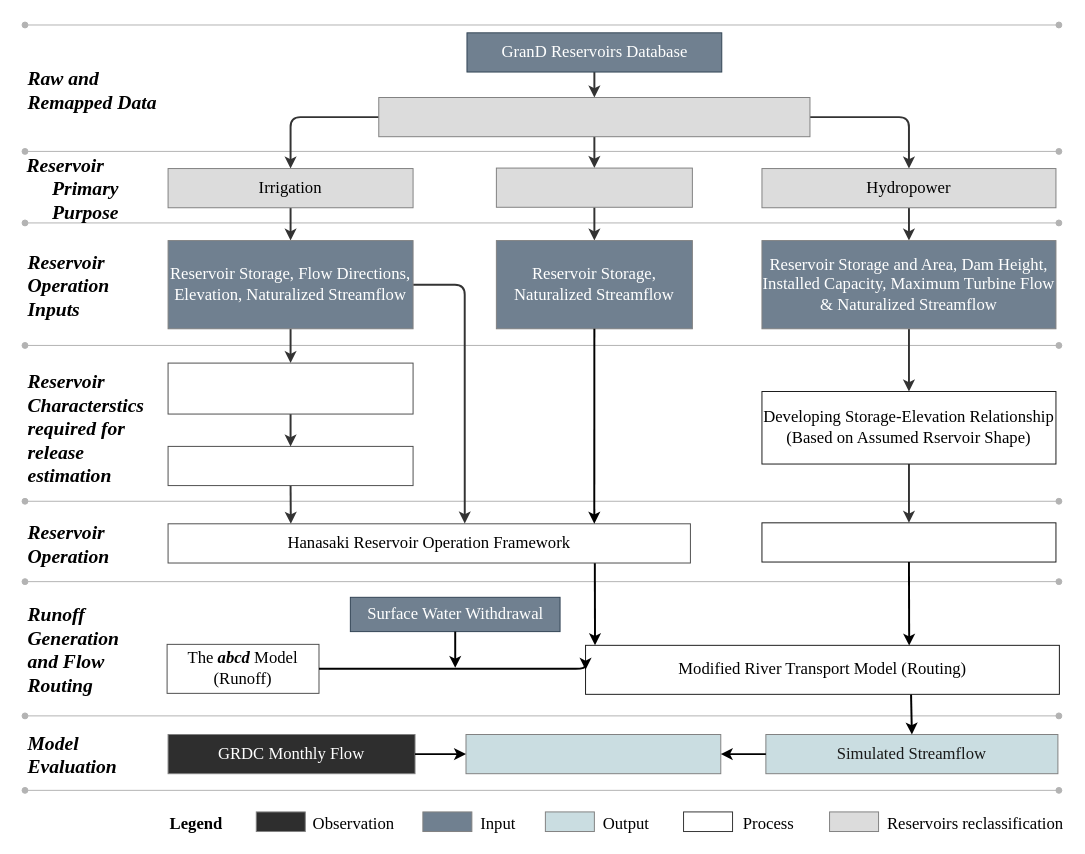
The diagram is 1085 pixels wide and 854 high, and some of its shapes have lost their labels. The box of each missing label's shape, as (x1, y1, x2, y2) in pixels:
Delineating Reservoir Dependent Areas: (167, 362, 413, 414)
Flood Control: (495, 167, 692, 207)
Irrigation Demand Estimation: (167, 445, 413, 486)
Model Evaluation at GRDC sites: (465, 734, 721, 774)
Remapping : Half-Degree Reservoir Database: (378, 97, 810, 137)
SDP-Based Release Policy: (761, 522, 1056, 562)
